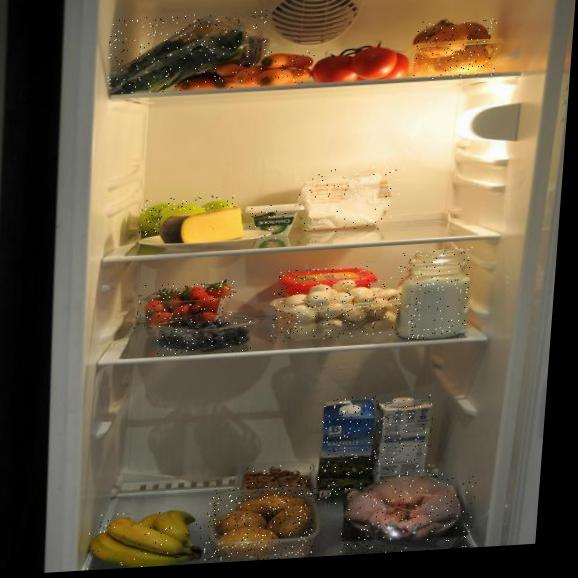apple: (139, 194, 239, 236)
banana: (85, 507, 207, 570)
blueberries: (156, 315, 253, 357)
butter: (276, 265, 377, 306)
carrot: (175, 49, 317, 91)
cheese: (160, 206, 249, 248)
chicken: (339, 469, 476, 555)
flour: (293, 165, 401, 235)
goat_cheese: (240, 203, 303, 241)
milk: (316, 396, 385, 505), (372, 394, 435, 501)
mushrooms: (269, 277, 403, 342)
onion: (412, 17, 500, 80)
potato: (203, 483, 318, 563)
shrimp: (238, 462, 316, 499)
spinach: (105, 10, 268, 95)
strawberries: (134, 280, 237, 331)
sugar: (393, 247, 472, 342)
tomato: (312, 40, 415, 86)
